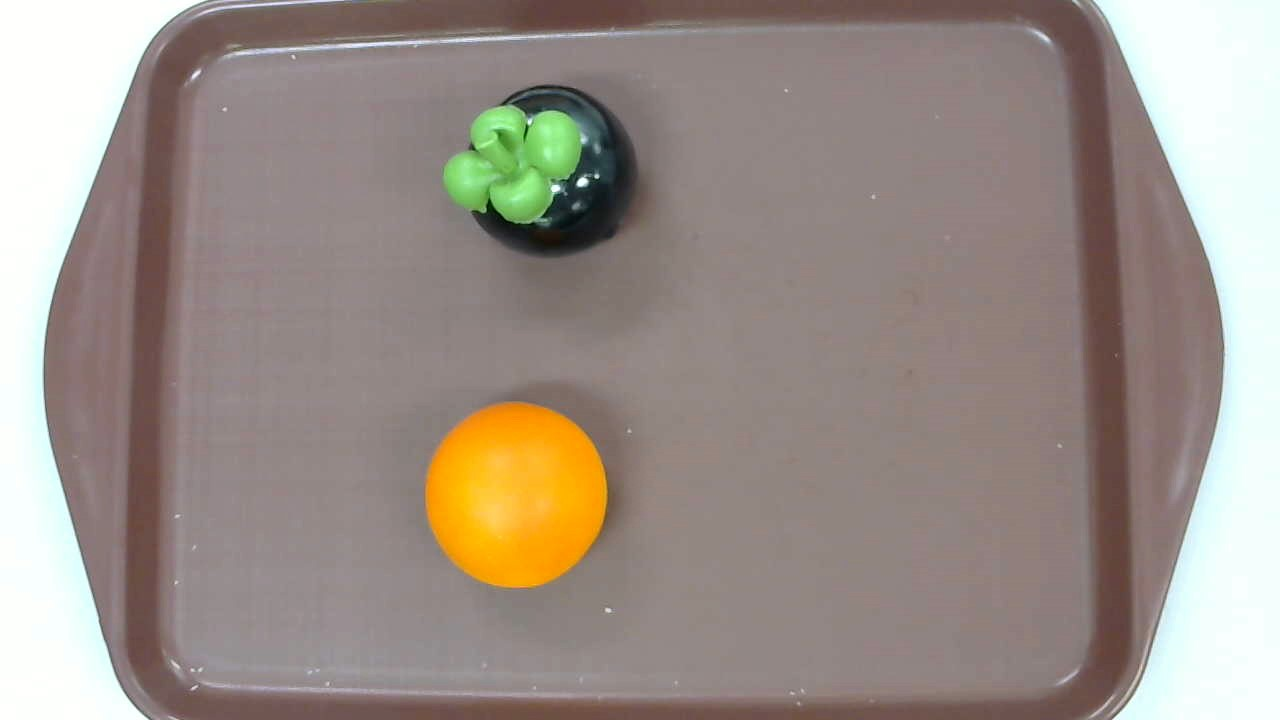bun: (424, 402, 608, 588)
mangosteen: (442, 84, 639, 258)
